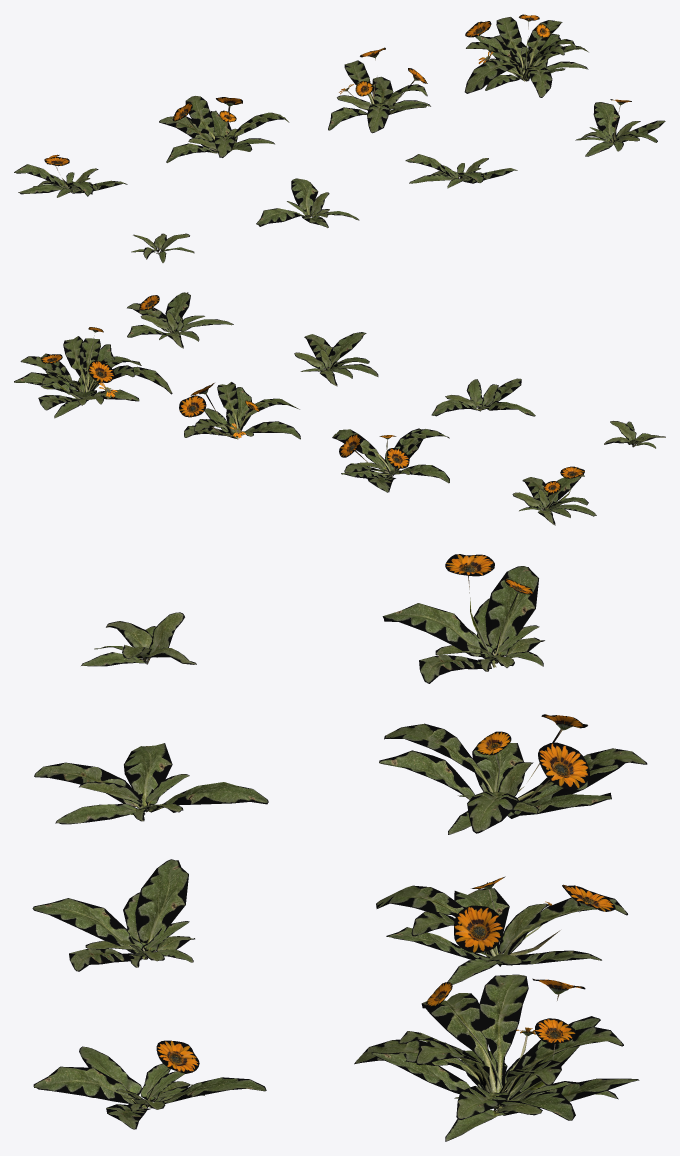
File: flower_gazania.glb
The picture shows the model from 3 angles, top to bottom: view 1: azimuth 30°, elevation 25°; view 2: azimuth 150°, elevation 25°; view 3: azimuth 270°, elevation 25°; orthographic projection. The views are drawn at different scales.
Parts seen in each view (by area): view 1: flower_gazania_h_LOD0, flower_gazania_f_LOD0, flower_gazania_g_LOD0, flower_gazania_d_LOD0, flower_gazania_b_LOD0, flower_gazania_e_LOD0, flower_gazania_c_LOD0, flower_gazania_a_LOD0; view 2: flower_gazania_h_LOD0, flower_gazania_g_LOD0, flower_gazania_f_LOD0, flower_gazania_d_LOD0, flower_gazania_e_LOD0, flower_gazania_c_LOD0, flower_gazania_b_LOD0, flower_gazania_a_LOD0; view 3: flower_gazania_h_LOD0, flower_gazania_f_LOD0, flower_gazania_g_LOD0, flower_gazania_e_LOD0, flower_gazania_c_LOD0, flower_gazania_d_LOD0, flower_gazania_b_LOD0, flower_gazania_a_LOD0.
Boxes of the visible parts, x1,y1,x2,y2 form: flower_gazania_h_LOD0: [464, 14, 588, 97]; flower_gazania_f_LOD0: [159, 96, 289, 162]; flower_gazania_g_LOD0: [328, 47, 430, 133]; flower_gazania_d_LOD0: [575, 99, 665, 156]; flower_gazania_b_LOD0: [256, 178, 359, 227]; flower_gazania_e_LOD0: [14, 154, 127, 197]; flower_gazania_c_LOD0: [405, 154, 517, 188]; flower_gazania_a_LOD0: [131, 233, 194, 262]; flower_gazania_h_LOD0: [14, 327, 172, 418]; flower_gazania_g_LOD0: [179, 382, 300, 439]; flower_gazania_f_LOD0: [332, 428, 449, 492]; flower_gazania_d_LOD0: [127, 292, 233, 348]; flower_gazania_e_LOD0: [512, 466, 596, 525]; flower_gazania_c_LOD0: [294, 332, 378, 386]; flower_gazania_b_LOD0: [431, 378, 535, 416]; flower_gazania_a_LOD0: [604, 421, 665, 448]; flower_gazania_h_LOD0: [354, 974, 639, 1141]; flower_gazania_f_LOD0: [379, 714, 647, 834]; flower_gazania_g_LOD0: [376, 876, 627, 984]; flower_gazania_e_LOD0: [382, 554, 544, 683]; flower_gazania_c_LOD0: [32, 859, 194, 971]; flower_gazania_d_LOD0: [33, 1040, 266, 1129]; flower_gazania_b_LOD0: [34, 743, 268, 824]; flower_gazania_a_LOD0: [81, 612, 196, 666].
Size of the model in its own units: 1.48 by 0.1655 by 0.7028.
1 material, 1 textured.
